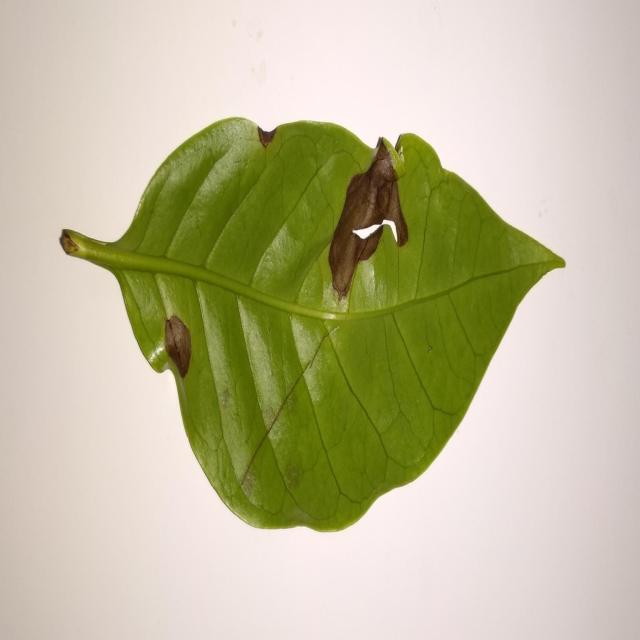Enfermedad-Antracnosis: (58, 117, 568, 536)
